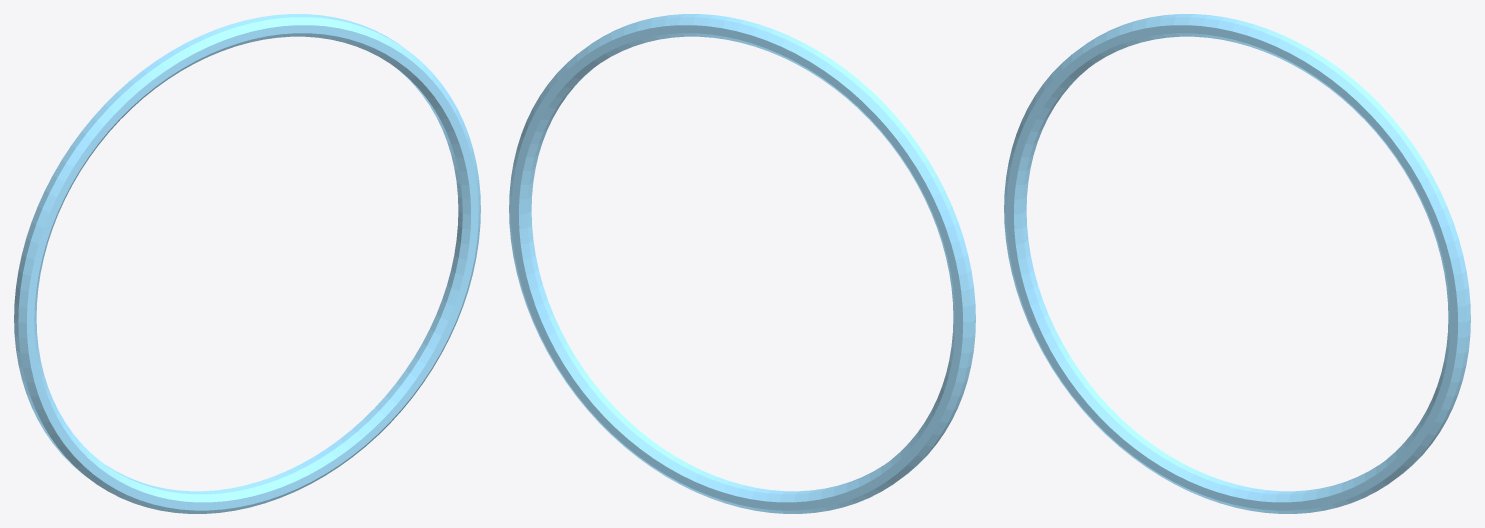
3 renders of one model, left to right at view 1: azimuth 30°, elevation 25°; view 2: azimuth 150°, elevation 25°; view 3: azimuth 330°, elevation 25°, orthographic.
Bounding box in the file's own units: 117 × 117 × 4.62.
